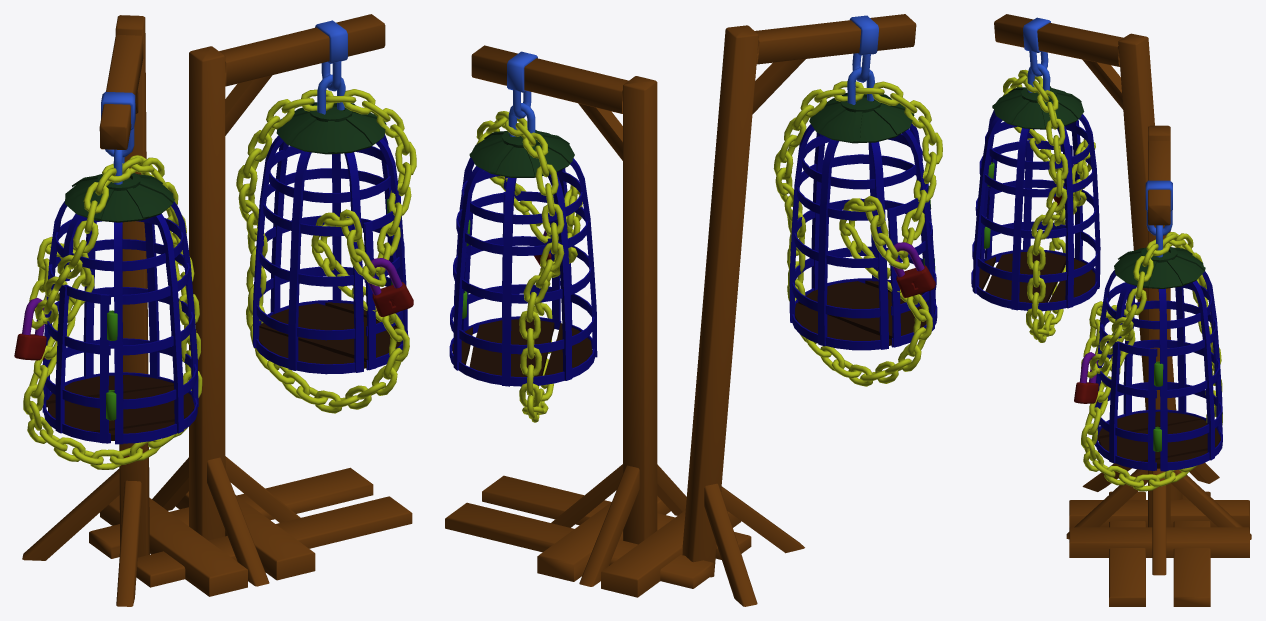
Rendered from cage.fbx.
3 renders of one model, left to right at view 1: azimuth 30°, elevation 25°; view 2: azimuth 150°, elevation 25°; view 3: azimuth 270°, elevation 25°, orthographic. The views are drawn at different scales.
Visible parts, largest first — view 1: Cage_Asset250cm; view 2: Cage_Asset250cm; view 3: Cage_Asset250cm.
Boxes of the visible parts, <box> form: Cage_Asset250cm: <box>14,14,416,606</box>; Cage_Asset250cm: <box>445,14,942,606</box>; Cage_Asset250cm: <box>971,14,1251,606</box>.
Bounding box in the file's own units: 305 × 369 × 200.
